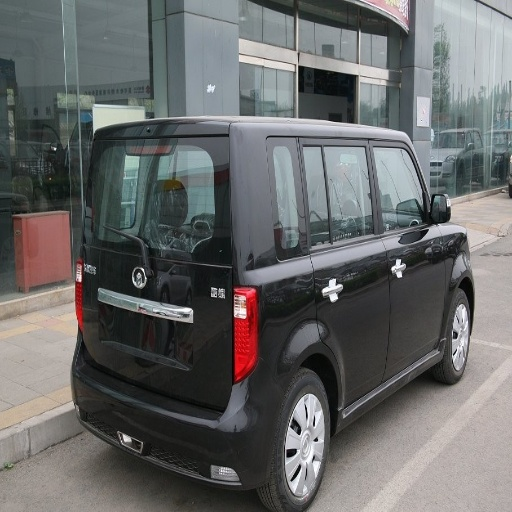back_bumper: (73, 346, 275, 483)
back_right_door: (297, 138, 390, 410)
tailgate: (85, 280, 194, 398)
trunk: (88, 216, 230, 406), (182, 125, 267, 193)
